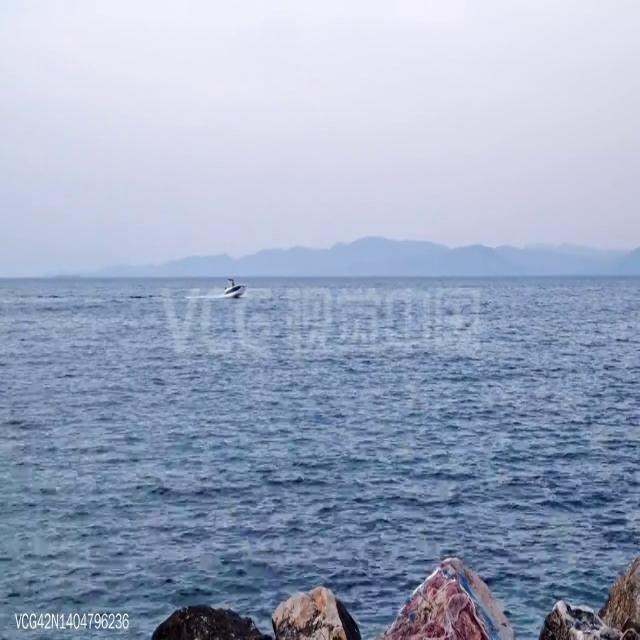houseboat: (224, 273, 248, 298)
